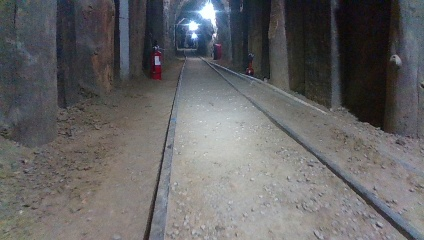backpack: (212, 41, 224, 62)
drill: (245, 50, 256, 75)
fire_extinguisher: (150, 37, 163, 80)
